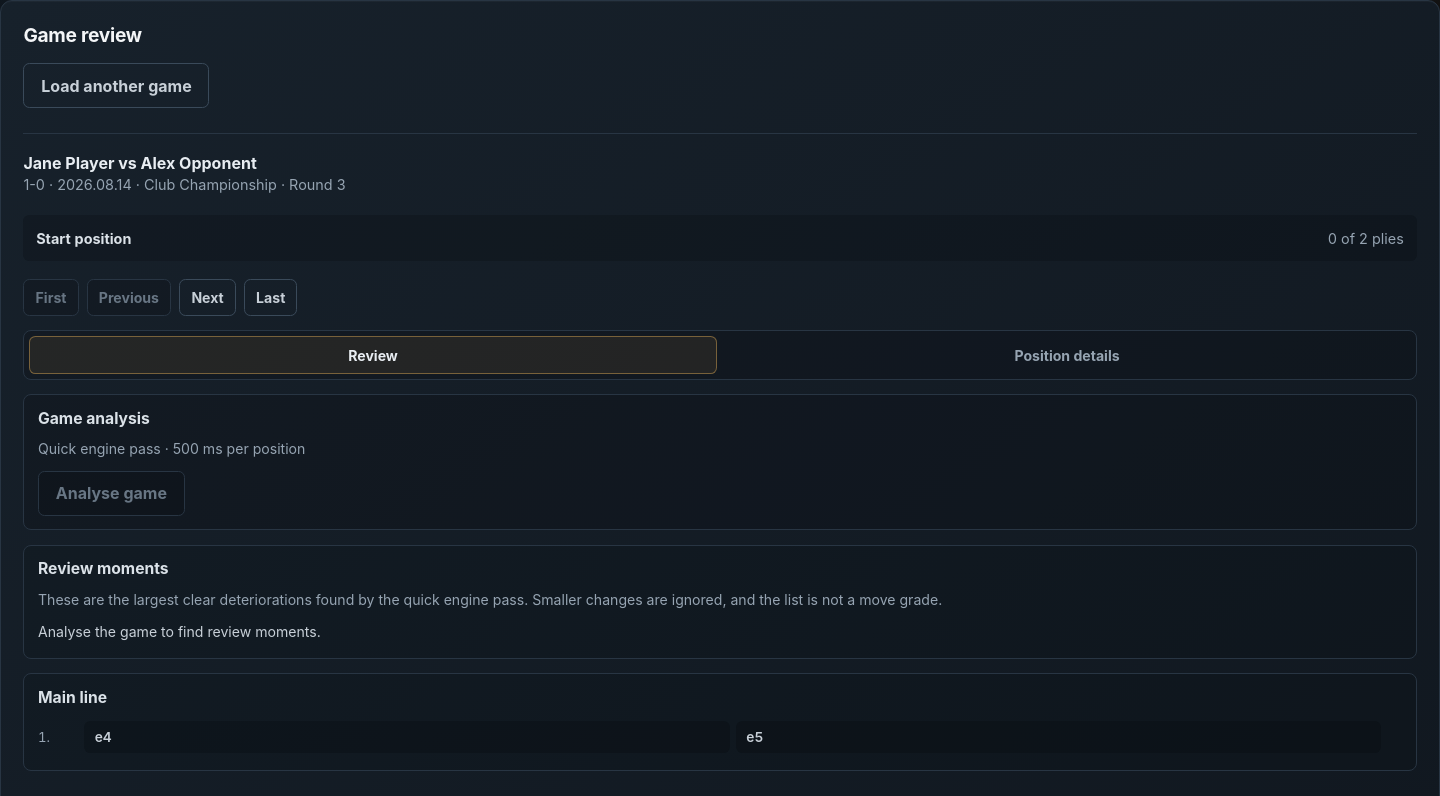
Test: collapses the PGN editor for a loaded game and restores focus on request
Expected: the field labelled "PGN" is not shown
Click the button "Load another game" at [116, 86], box [23,63,210,108]
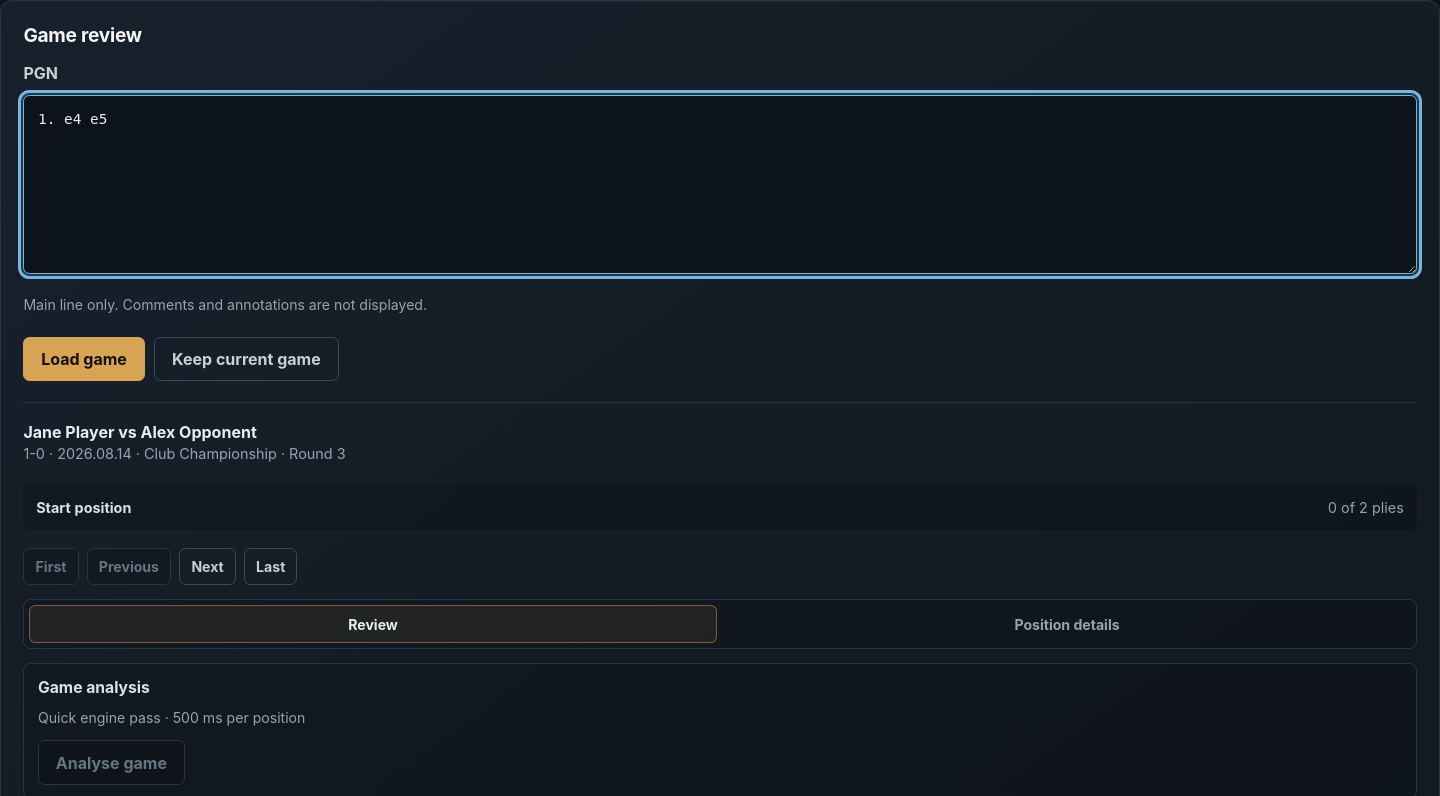
Now the text box labelled "PGN" holds "1. e4 e5", box [23,95,1417,274]
Click the button "Keep current game" at [246, 359], box [154,336,338,381]
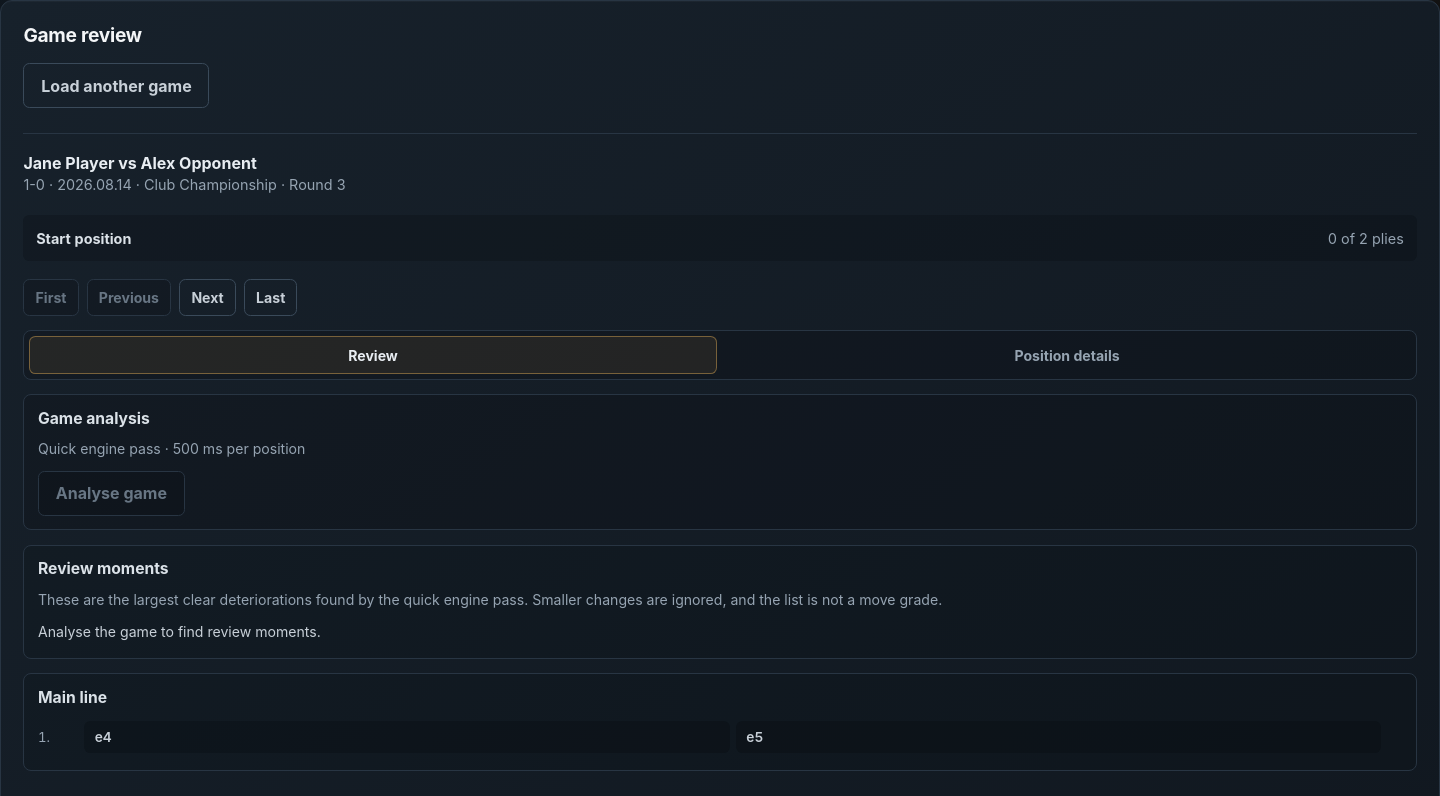
Now the label labelled "PGN" is gone
